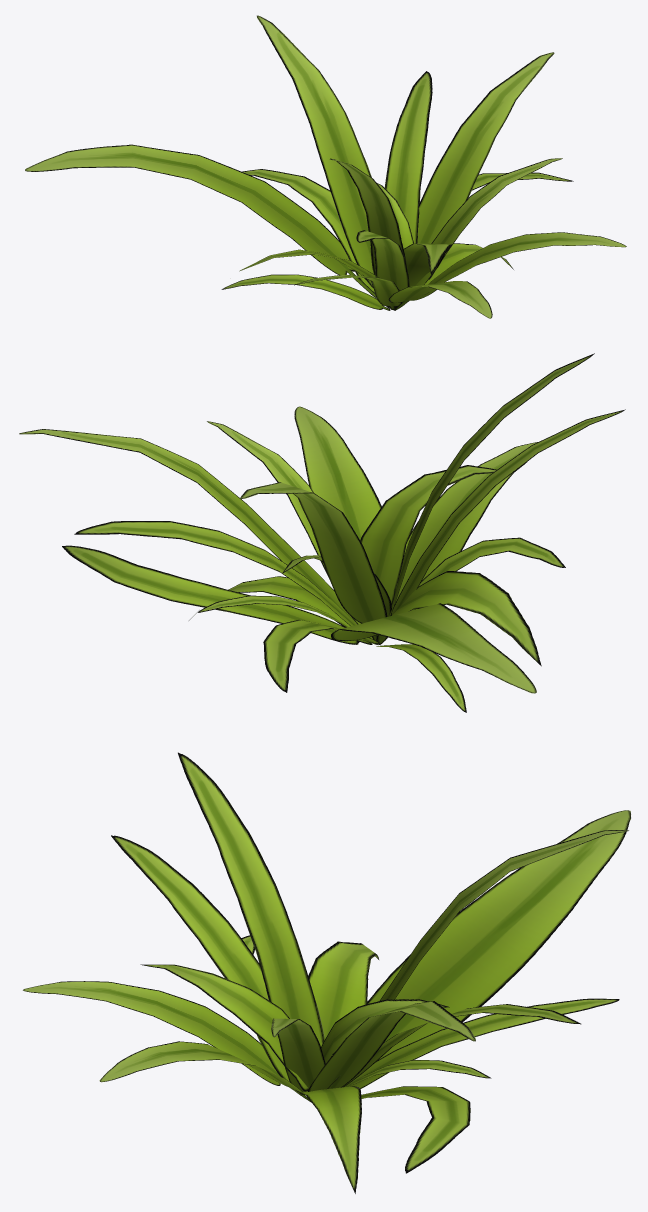
Rendered from Moonset_FBX_foliage_mid_04.fbx.
The picture shows the model from 3 angles, top to bottom: view 1: azimuth 30°, elevation 25°; view 2: azimuth 150°, elevation 25°; view 3: azimuth 270°, elevation 25°; orthographic projection. The views are drawn at different scales.
Visible parts, largest first — view 1: Foliage_mid_04; view 2: Foliage_mid_04; view 3: Foliage_mid_04.
Part boxes in pixels (<box>): Foliage_mid_04: <box>25,15,626,318</box>; Foliage_mid_04: <box>19,353,625,712</box>; Foliage_mid_04: <box>23,752,630,1193</box>.
Size of the model in its own units: 2.32 by 1.05 by 2.03.
